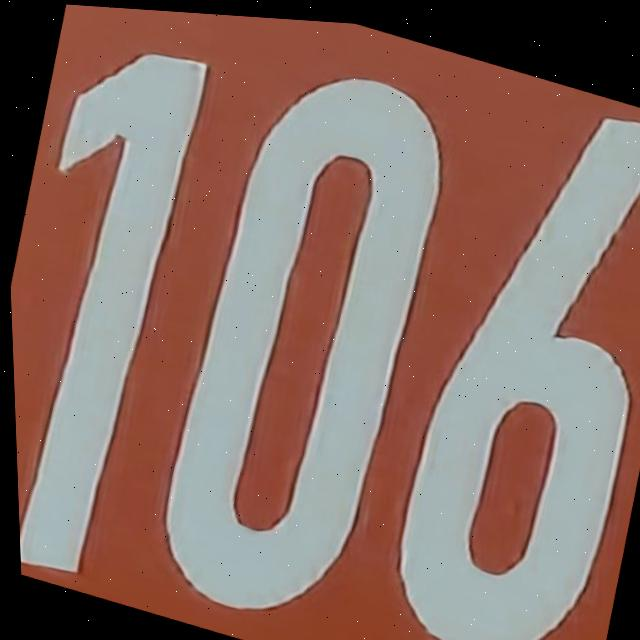character: (118, 27, 481, 640), (350, 53, 640, 640), (1, 15, 244, 611)
